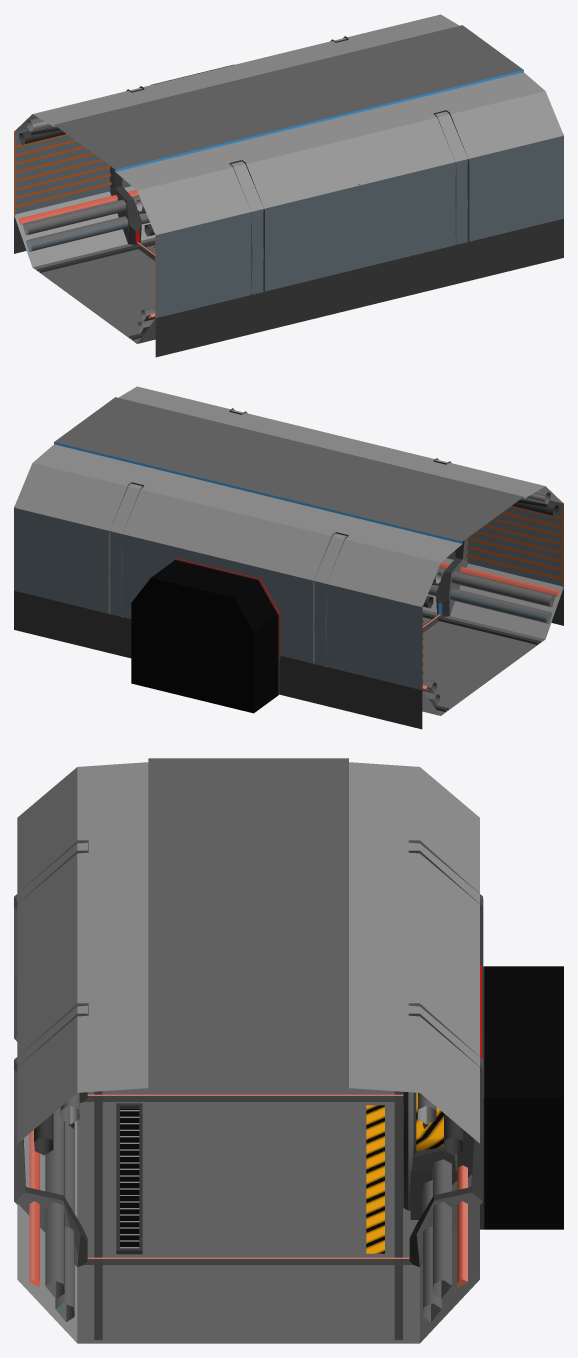
Rendered from Enemy_Spawn_SciFi_Tunnel.fbx.
3 views of the same model, one above another, from view 1: azimuth 30°, elevation 25°; view 2: azimuth 150°, elevation 25°; view 3: azimuth 270°, elevation 25° (orthographic). The views are drawn at different scales.
Visible parts, largest first — view 1: Enemy_Spawn_SciFi_Tunnel_South, Enemy_Spawn_SciFi_Tunnel_Ceiling, Enemy_Spawn_SciFi_Tunnel, Enemy_Spawn_SciFi_Tunnel_North; view 2: Enemy_Spawn_SciFi_Tunnel_North, Enemy_Spawn_SciFi_Tunnel, Enemy_Spawn_SciFi_Tunnel_Ceiling, Enemy_Spawn_SciFi_Tunnel_South; view 3: Enemy_Spawn_SciFi_Tunnel, Enemy_Spawn_SciFi_Tunnel_Ceiling, Enemy_Spawn_SciFi_Tunnel_South, Enemy_Spawn_SciFi_Tunnel_North.
Boxes of the visible parts, box(x1,y1,x2,y2) form: Enemy_Spawn_SciFi_Tunnel_South: box(136, 91, 563, 320); Enemy_Spawn_SciFi_Tunnel_Ceiling: box(32, 14, 544, 190); Enemy_Spawn_SciFi_Tunnel: box(14, 64, 563, 357); Enemy_Spawn_SciFi_Tunnel_North: box(14, 36, 348, 244); Enemy_Spawn_SciFi_Tunnel_North: box(14, 463, 441, 692); Enemy_Spawn_SciFi_Tunnel: box(14, 558, 563, 729); Enemy_Spawn_SciFi_Tunnel_Ceiling: box(33, 386, 545, 562); Enemy_Spawn_SciFi_Tunnel_South: box(229, 408, 563, 616); Enemy_Spawn_SciFi_Tunnel: box(17, 965, 563, 1343); Enemy_Spawn_SciFi_Tunnel_Ceiling: box(77, 758, 419, 1092); Enemy_Spawn_SciFi_Tunnel_South: box(14, 767, 88, 1266); Enemy_Spawn_SciFi_Tunnel_North: box(408, 767, 483, 1266).
Bounding box in the file's own units: 1000 × 373 × 713.
